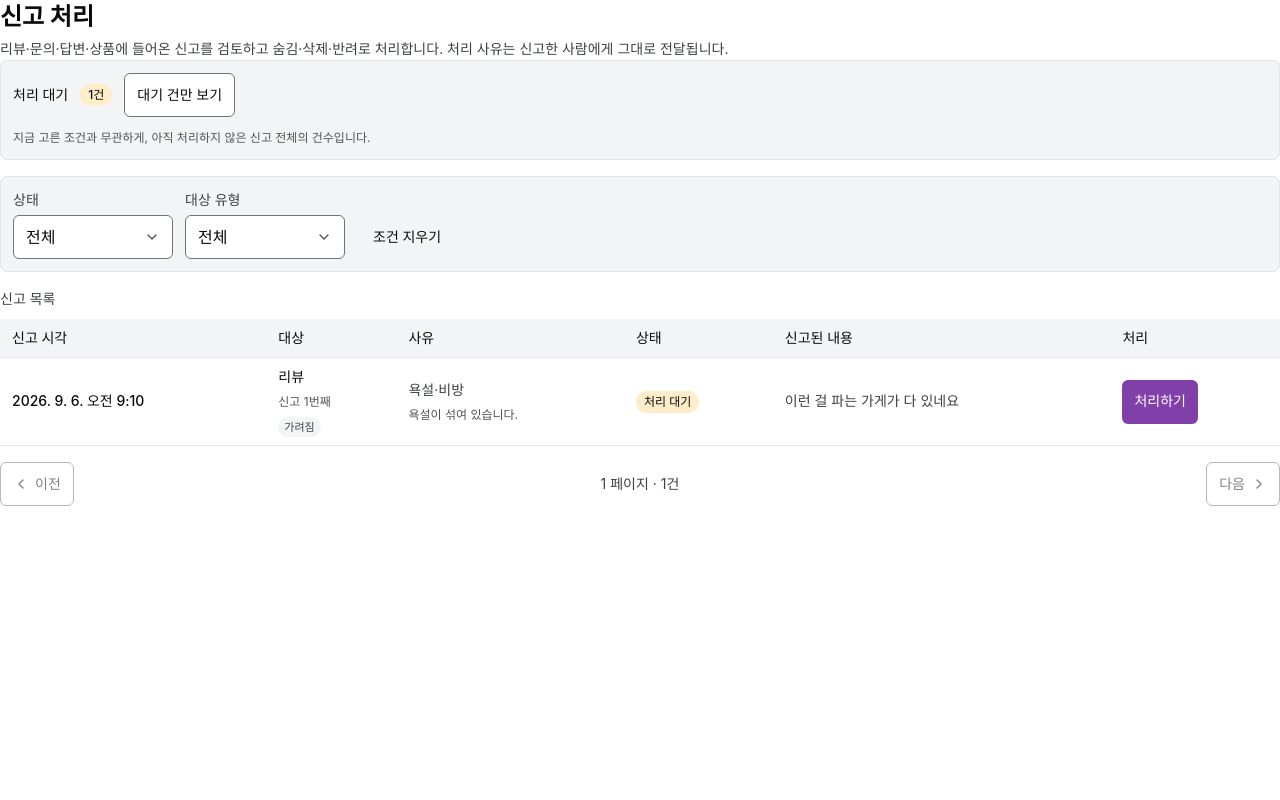
처리 (F4 · F5 · F6) › says out loud that rejecting a report puts the target back
Expected: the table "신고 목록" is shown, [0,288,1279,446]
Click the button "처리하기". click: [1160, 402]
box: [1122,380,1198,424]
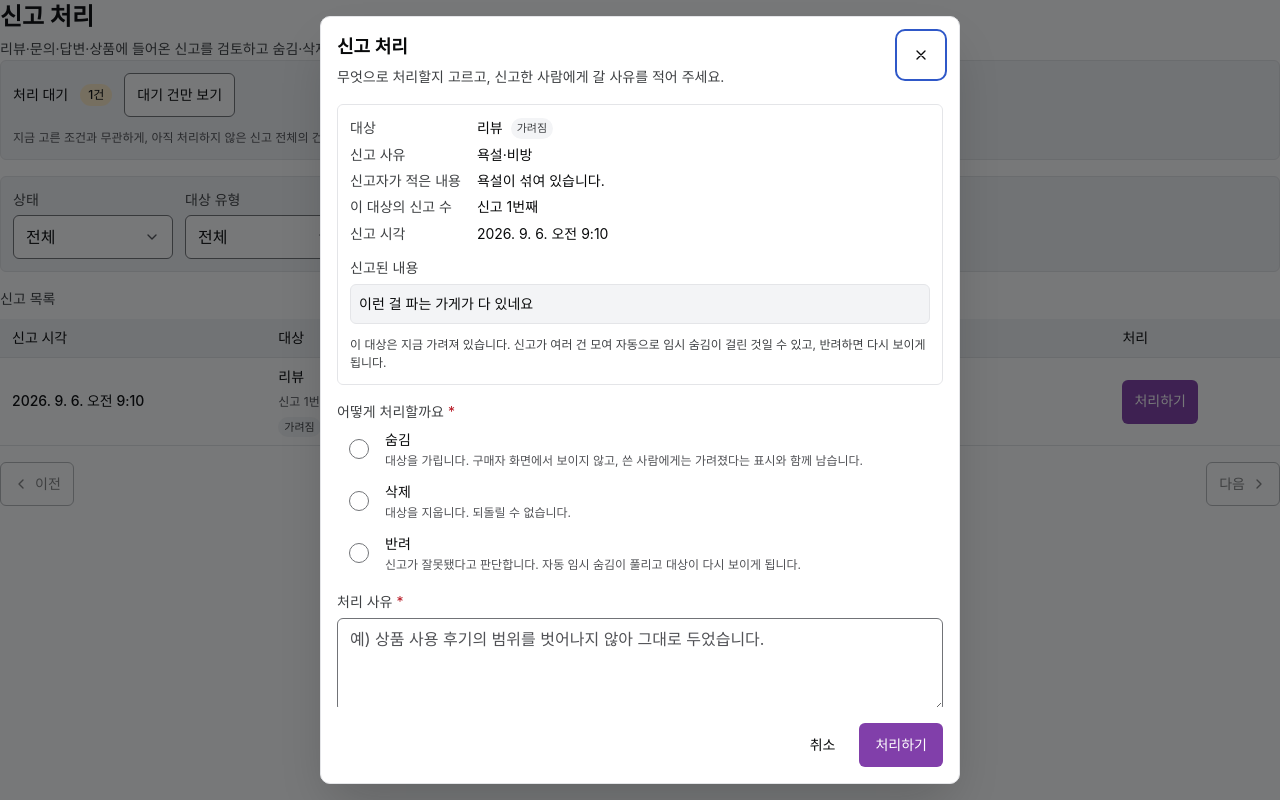
Expected: the text "신고가 잘못됐다고 판단합니다. 자동 임시 숨김이 풀리고 대상이 다시 보이게 됩니다." is shown, [385,556,801,574]
Expected: the text "이 대상은 지금 가려져 있습니다. 신고가 여러 건 모여 자동으로 임시 숨김이 걸린 것일 수 있고, 반려하면 다시 보이게 됩니다." is shown, [350,336,930,372]
Click the 3rd radio button. click: [359, 553]
box: [337,531,381,575]
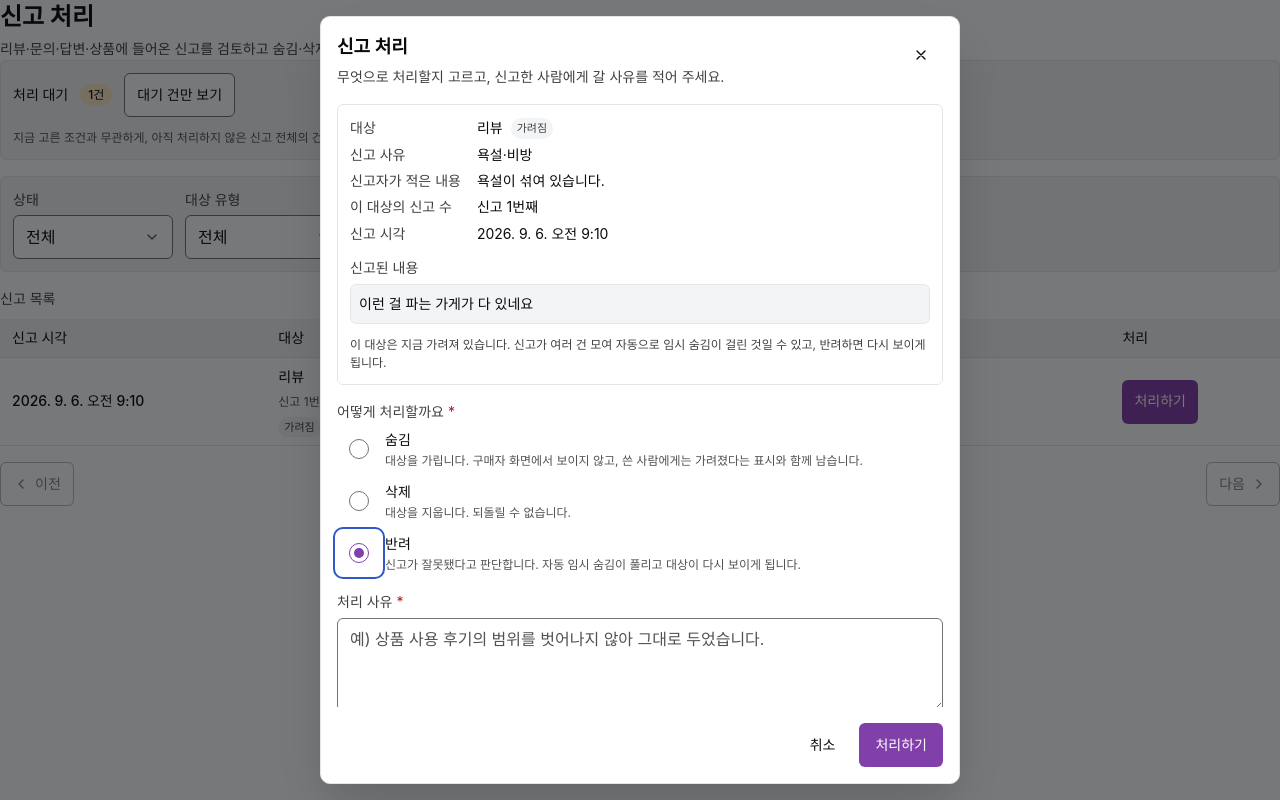
Type "문제 없습니다." into the text box labelled "처리 사유". click: [640, 665]
box: [337,618,943,712]
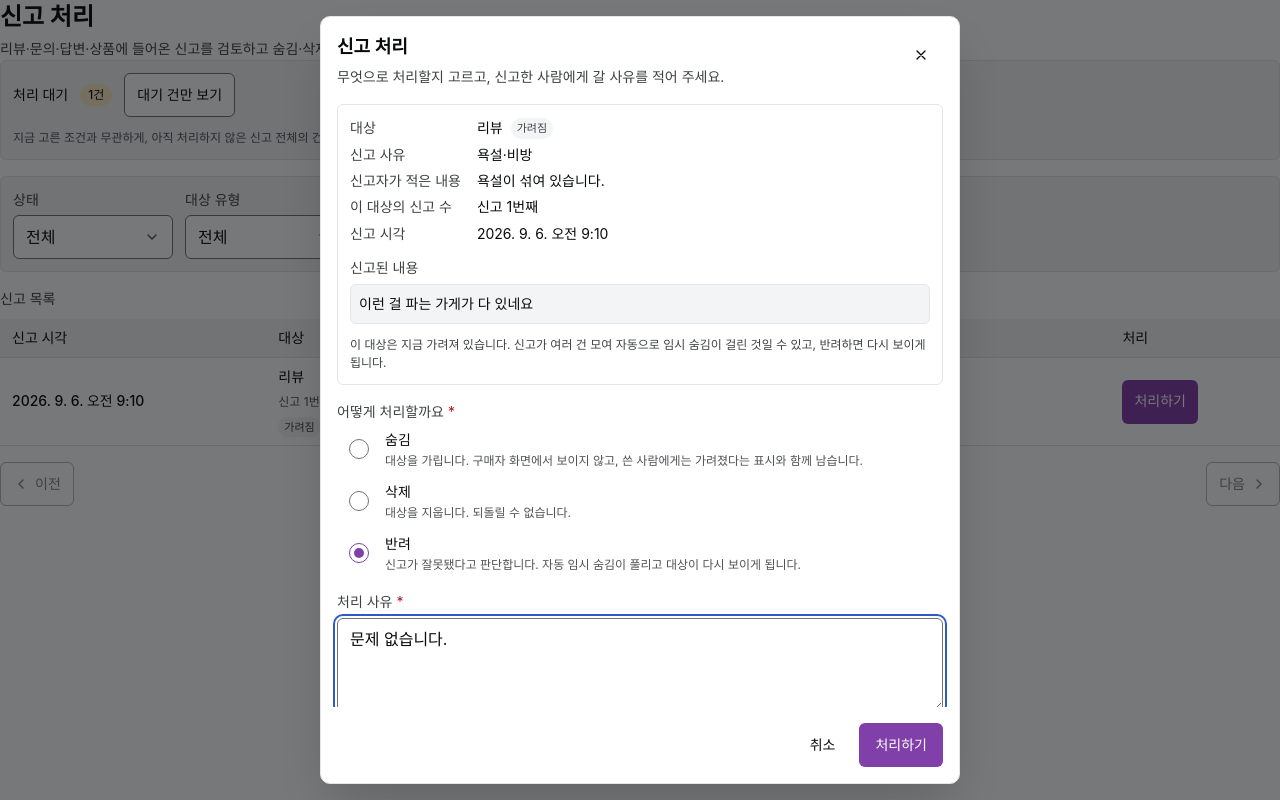
Click the button "처리하기". click: [901, 745]
box: [860,723,943,767]
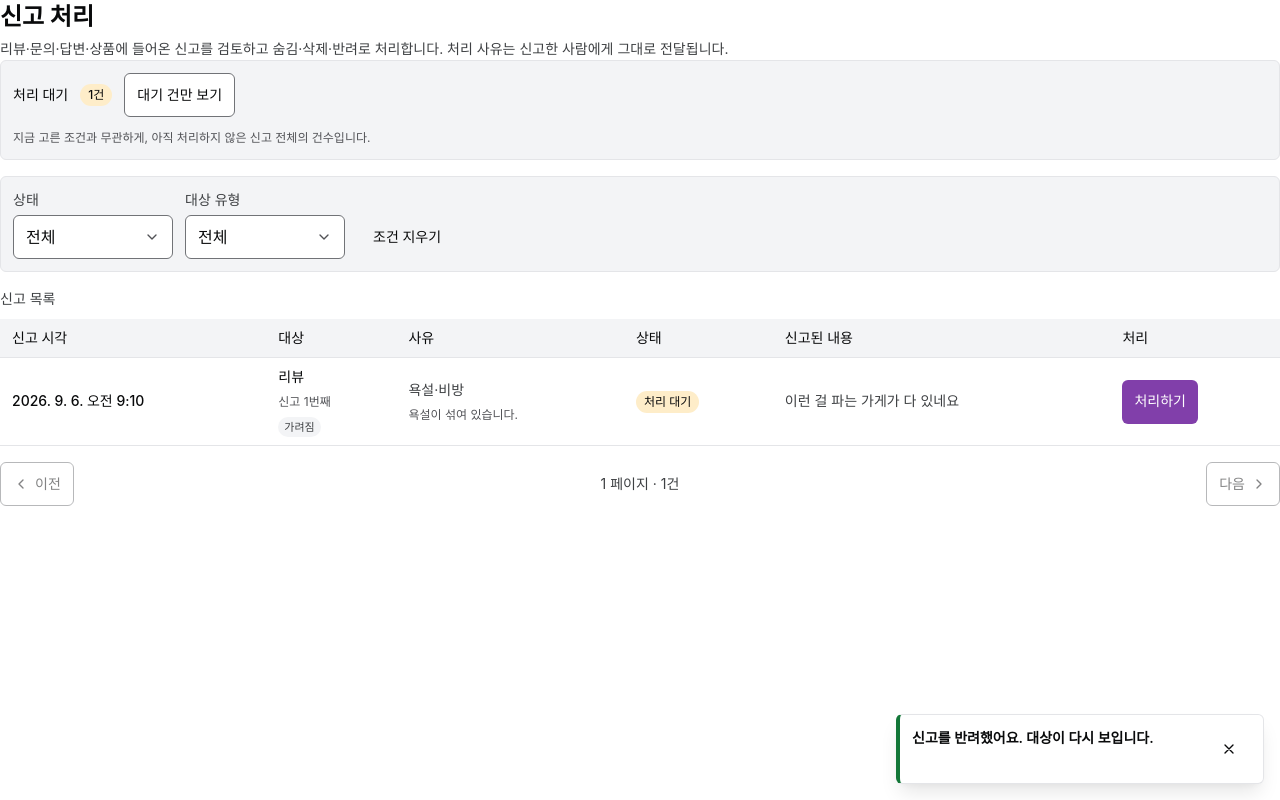
Expected: the text "신고를 반려했어요. 대상이 다시 보입니다." is shown, [912,727,1195,749]
